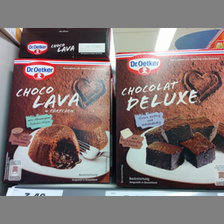cake: (114, 50, 224, 190), (4, 53, 113, 187)
